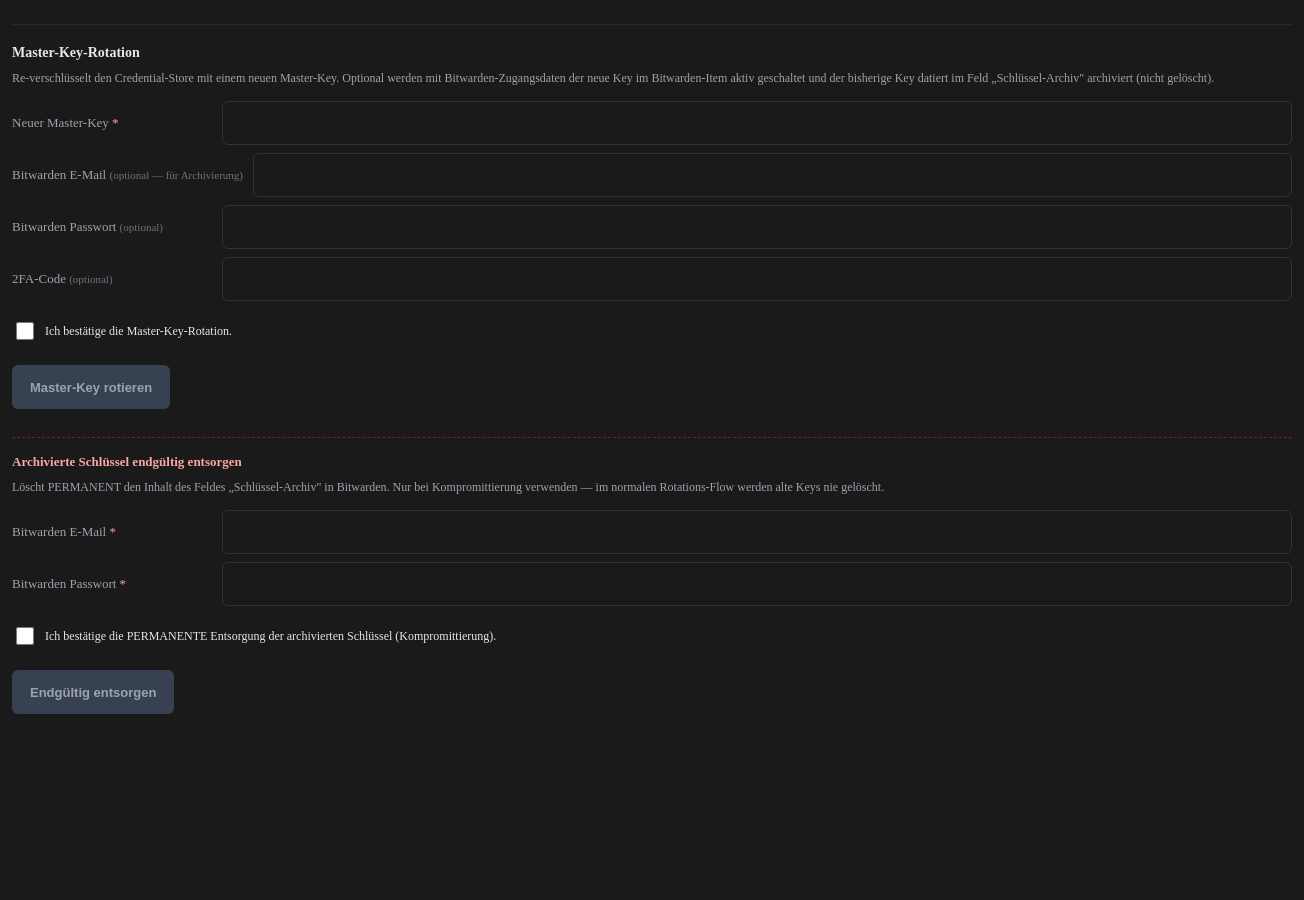
Test: MasterKeyRotationSection — Rotations-Formular › Happy Path OHNE Bitwarden-Daten: POST ohne bwEmail/bwPassword im Body; Stufe 1 + Stufe 2 (Backup) grün
This screenshot has width=1304, height=900.
Type "a-new-secure-master-key-value" into the password field labelled "Neuer Master-Key *" at (757, 123), box x1=222 y1=101 x2=1292 y2=145
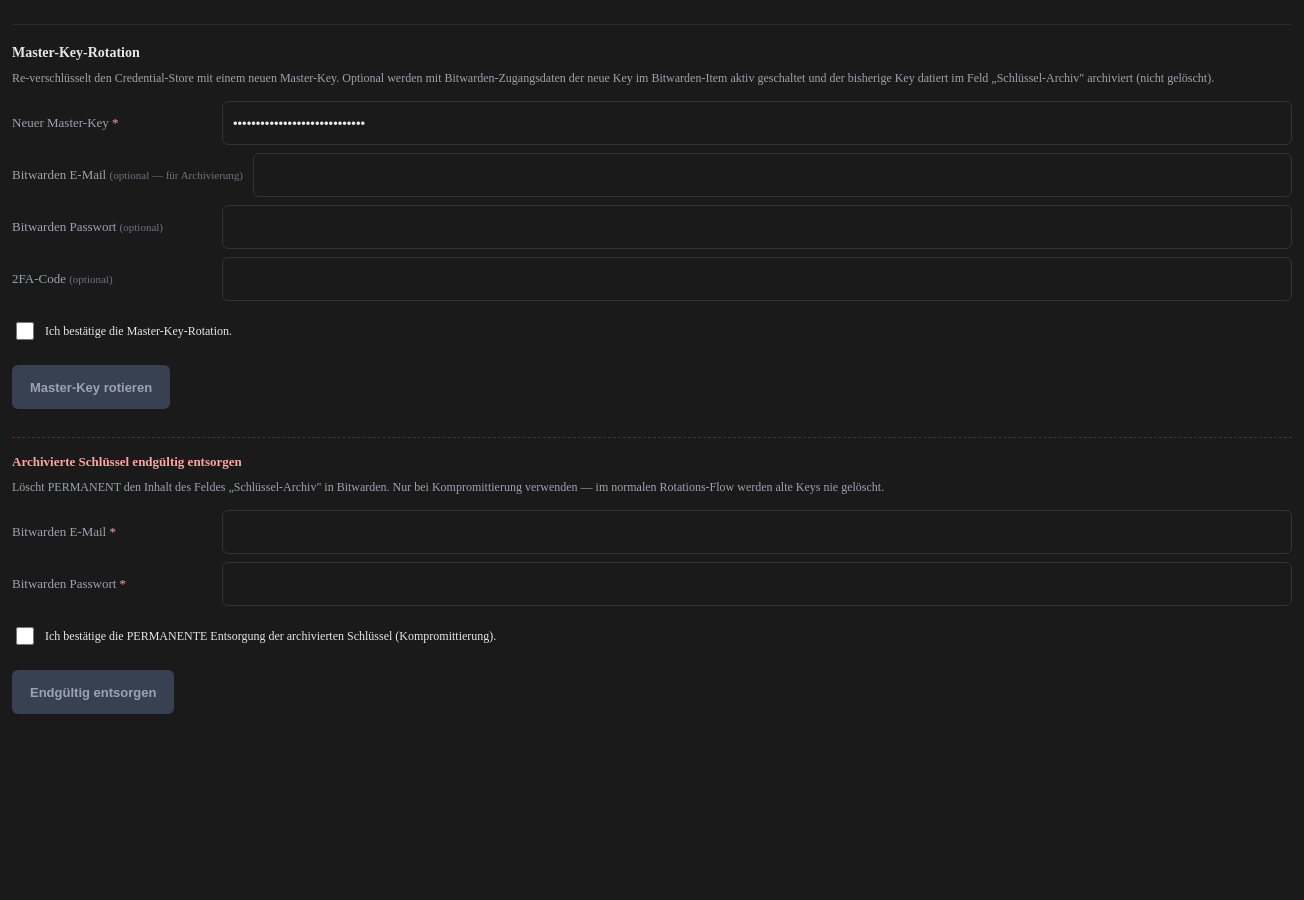
Click the checkbox labelled "Ich bestätige die Master-Key-Rotation." at (25, 331), box x1=16 y1=322 x2=34 y2=340
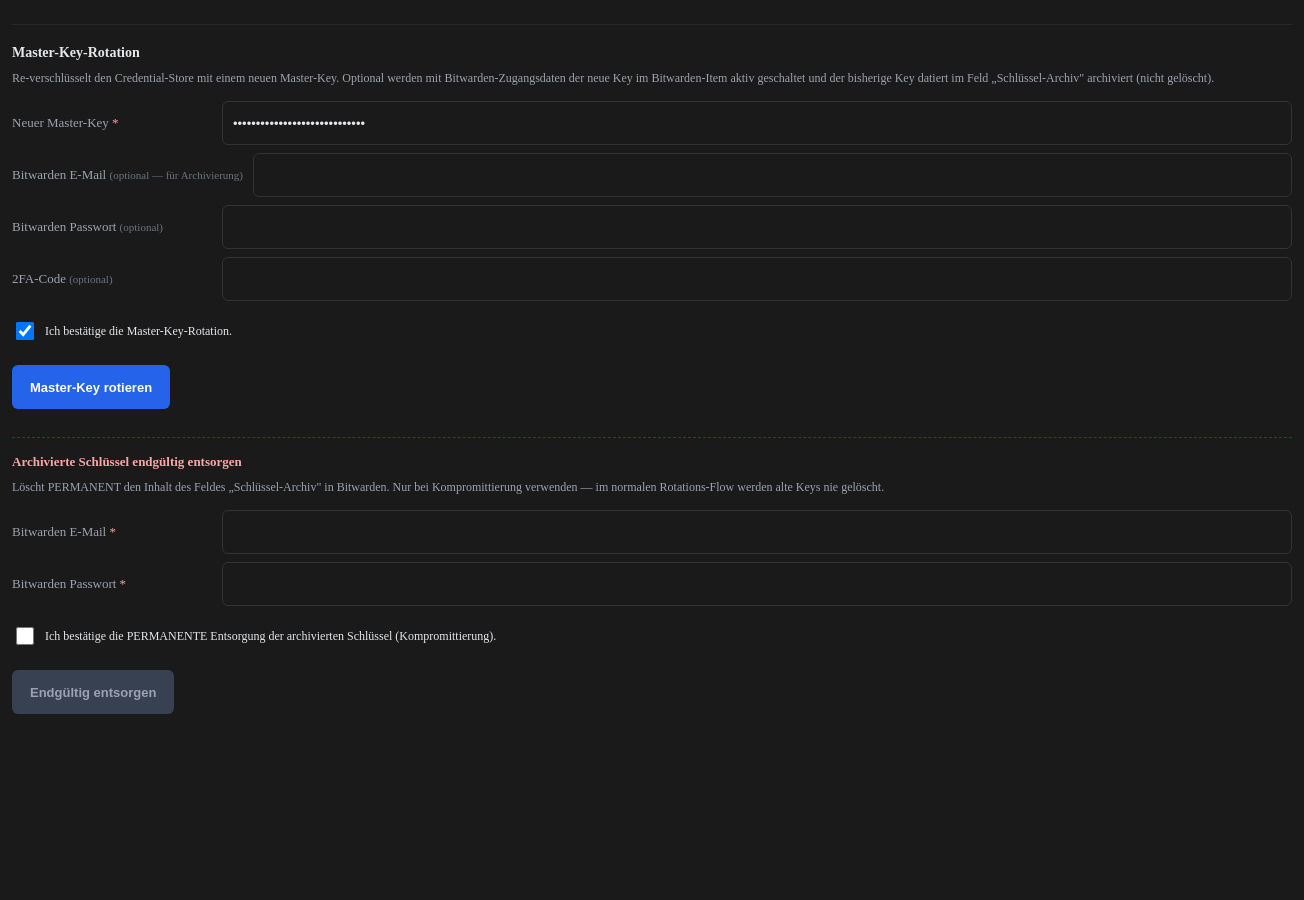
Click the button "Master-Key rotieren" at (91, 387), box x1=12 y1=365 x2=170 y2=409
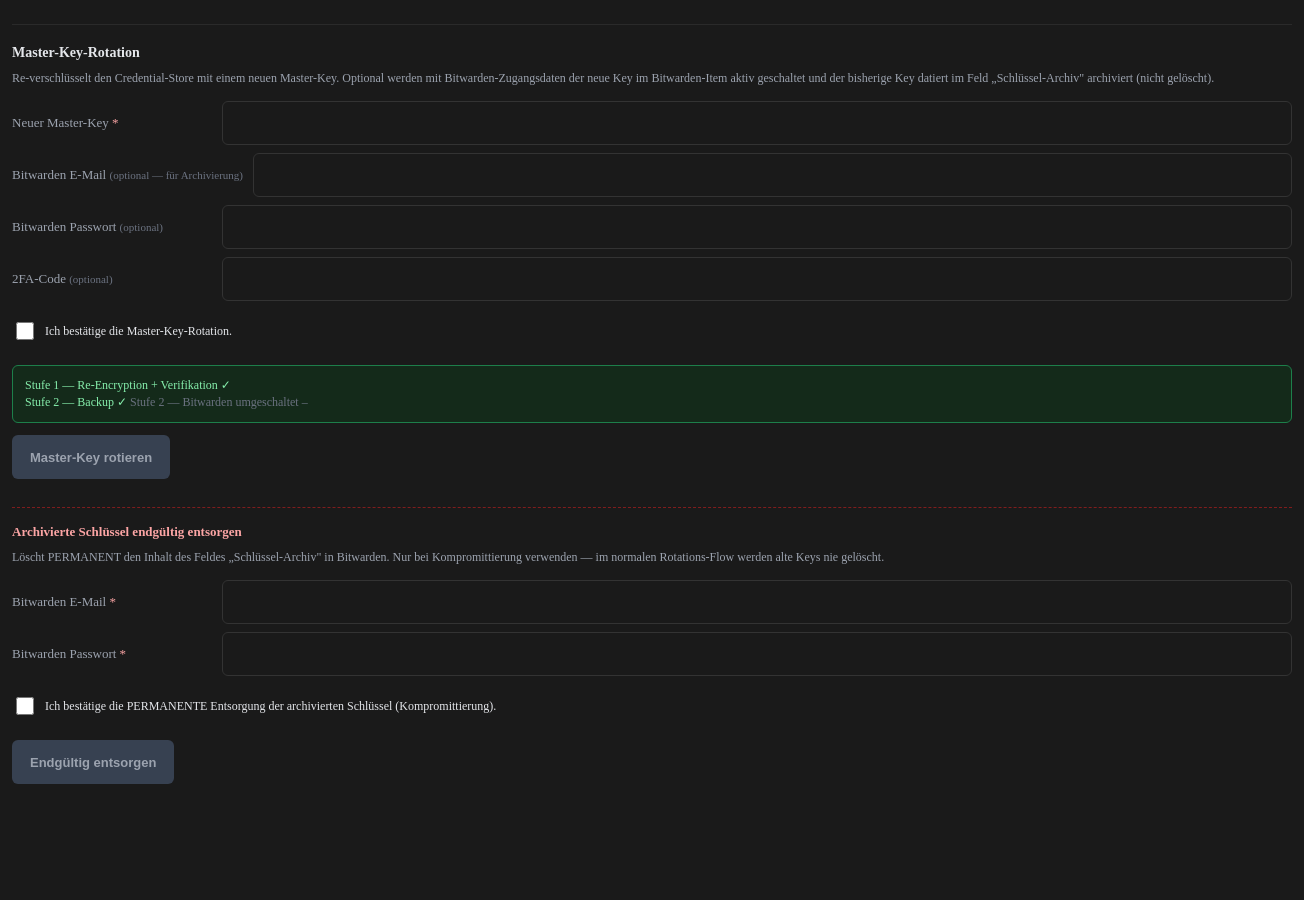
Now the picture "Stufe 1 — Re-Encryption + Verifikation ✓" is shown, box x1=25 y1=378 x2=231 y2=392
Now the picture "Stufe 2 — Backup ✓" is shown, box x1=25 y1=395 x2=127 y2=409
Now the picture "Stufe 2 — Bitwarden umgeschaltet –" is shown, box x1=130 y1=395 x2=308 y2=409
